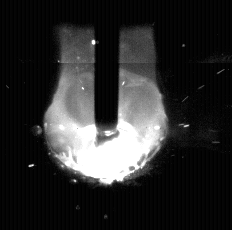arame: (95, 0, 120, 146)
poca: (43, 0, 169, 230)
